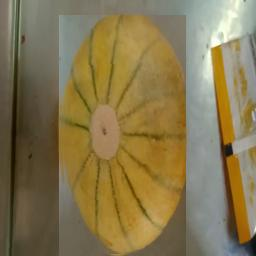Melon Semifresh: (61, 15, 186, 254)
